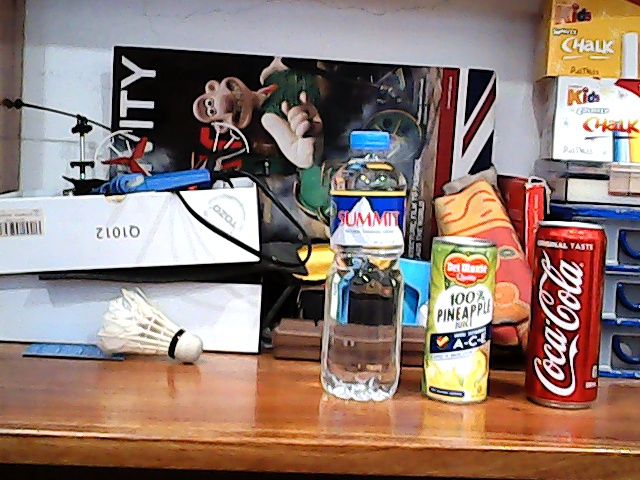Cola: (518, 218, 611, 408)
Pine Juice: (416, 228, 503, 410)
Summit Water: (323, 123, 410, 410)
